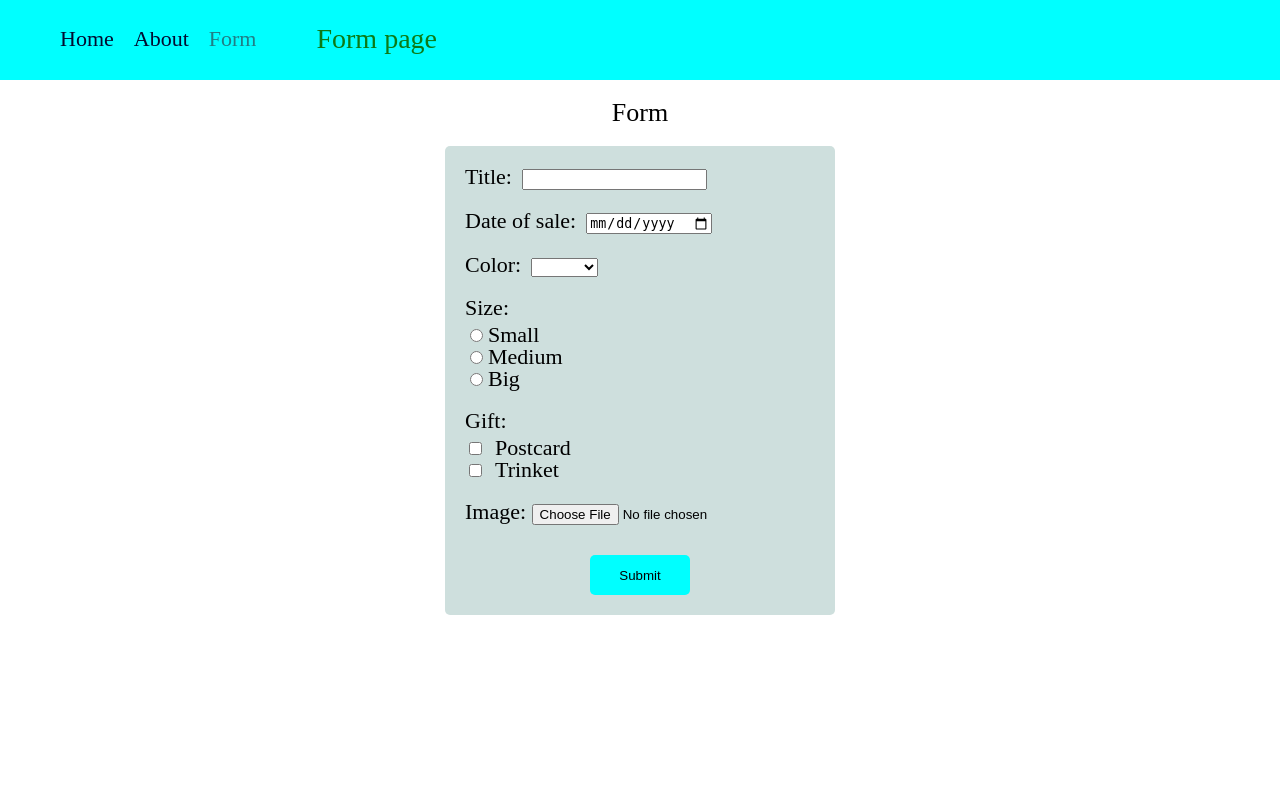
Test case: The Form Page › show mistakes when title does not start with uppercase letter
Type "oliver" into the field with id "title". click: (615, 180)
box: [522, 169, 707, 190]
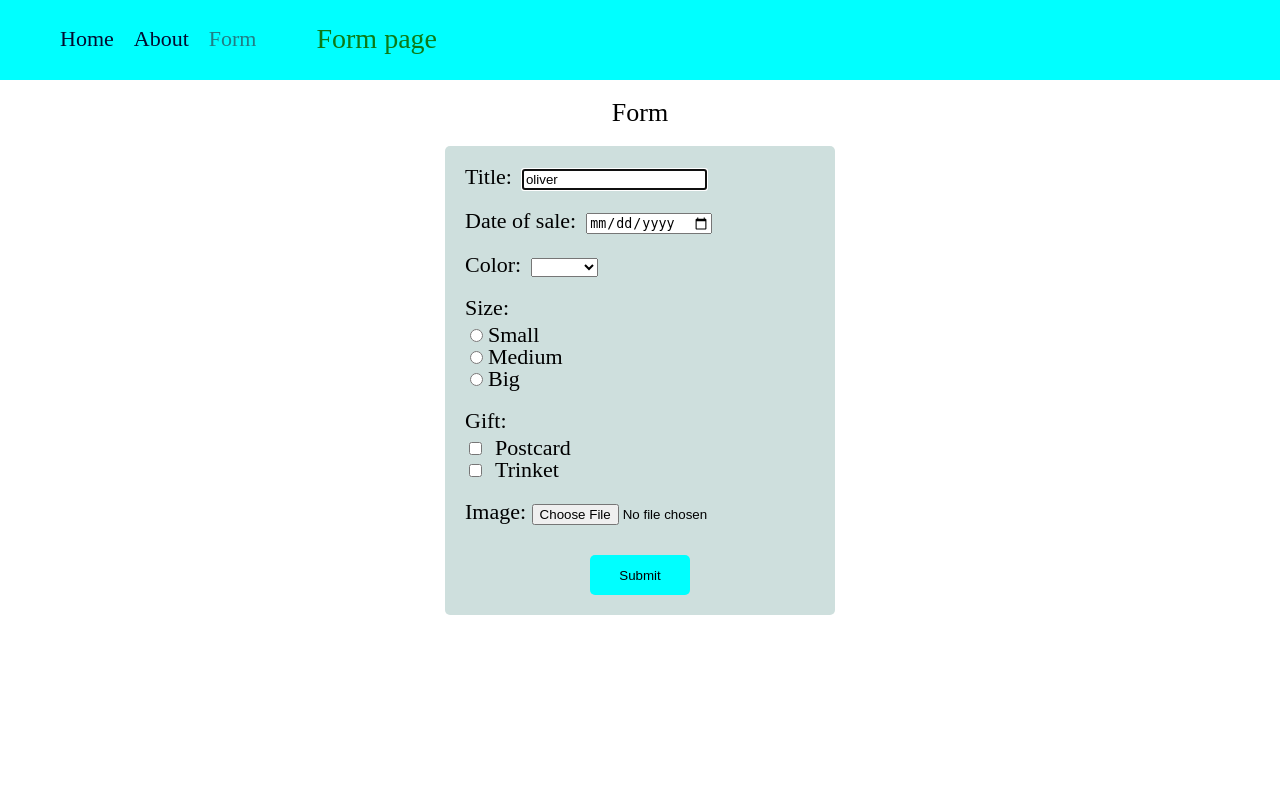
Click the button with class "form__button". click: (640, 575)
box: [590, 555, 690, 595]
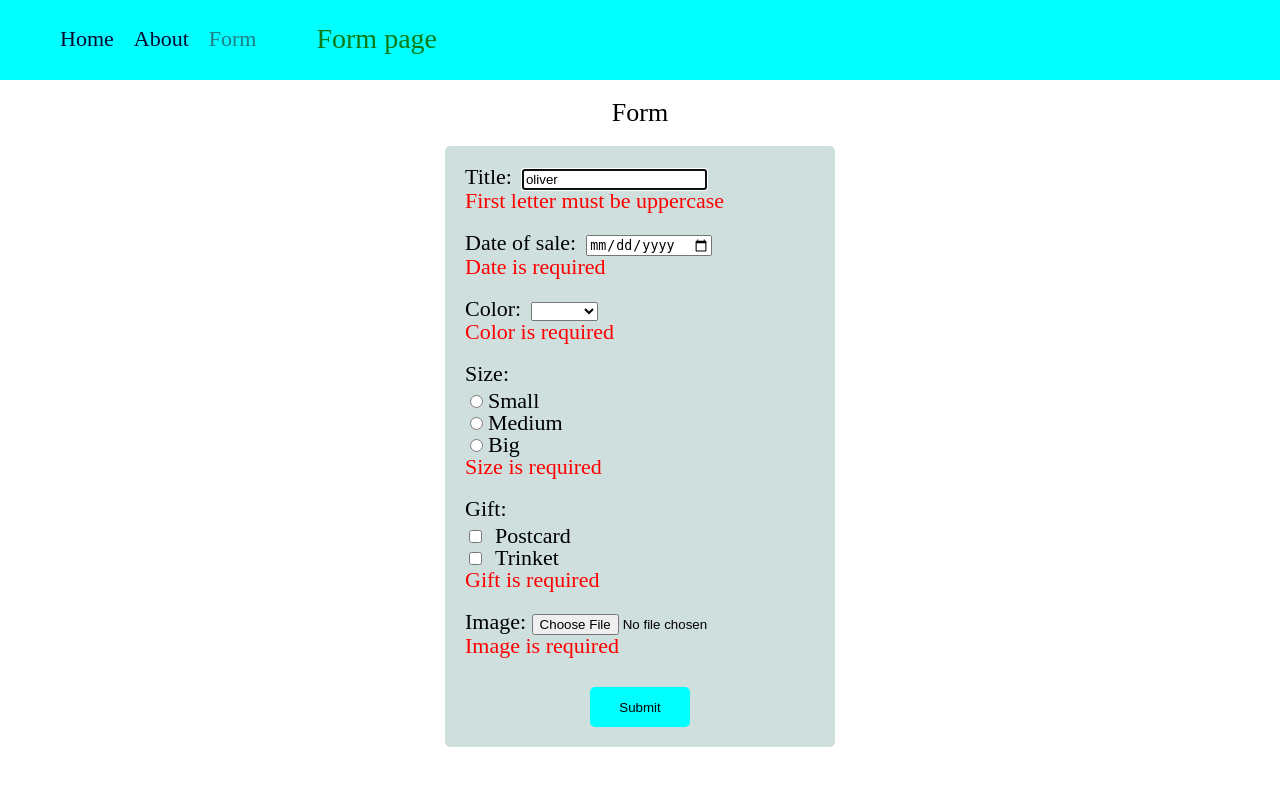
Expected: the text "First letter must be uppercase" is shown, [465, 188, 724, 213]
